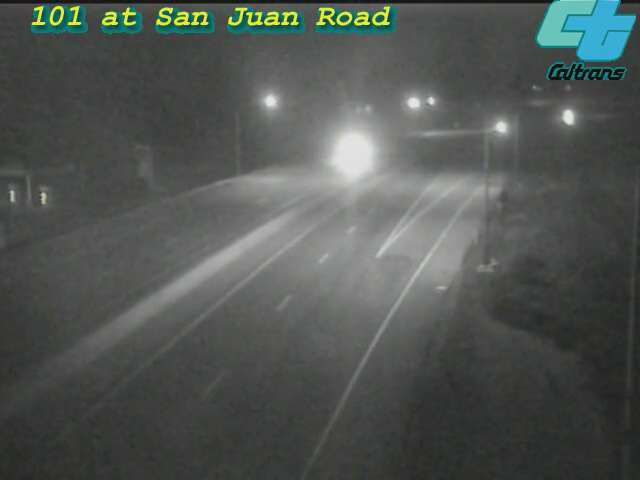vehicle: (327, 130, 377, 180), (475, 103, 525, 153), (539, 94, 589, 144)
